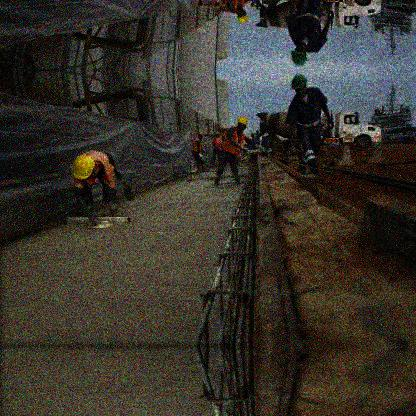helmet: (72, 155, 96, 180), (290, 73, 308, 99), (291, 42, 307, 67), (237, 115, 248, 132), (237, 10, 248, 24), (198, 132, 203, 140), (216, 132, 220, 137)
